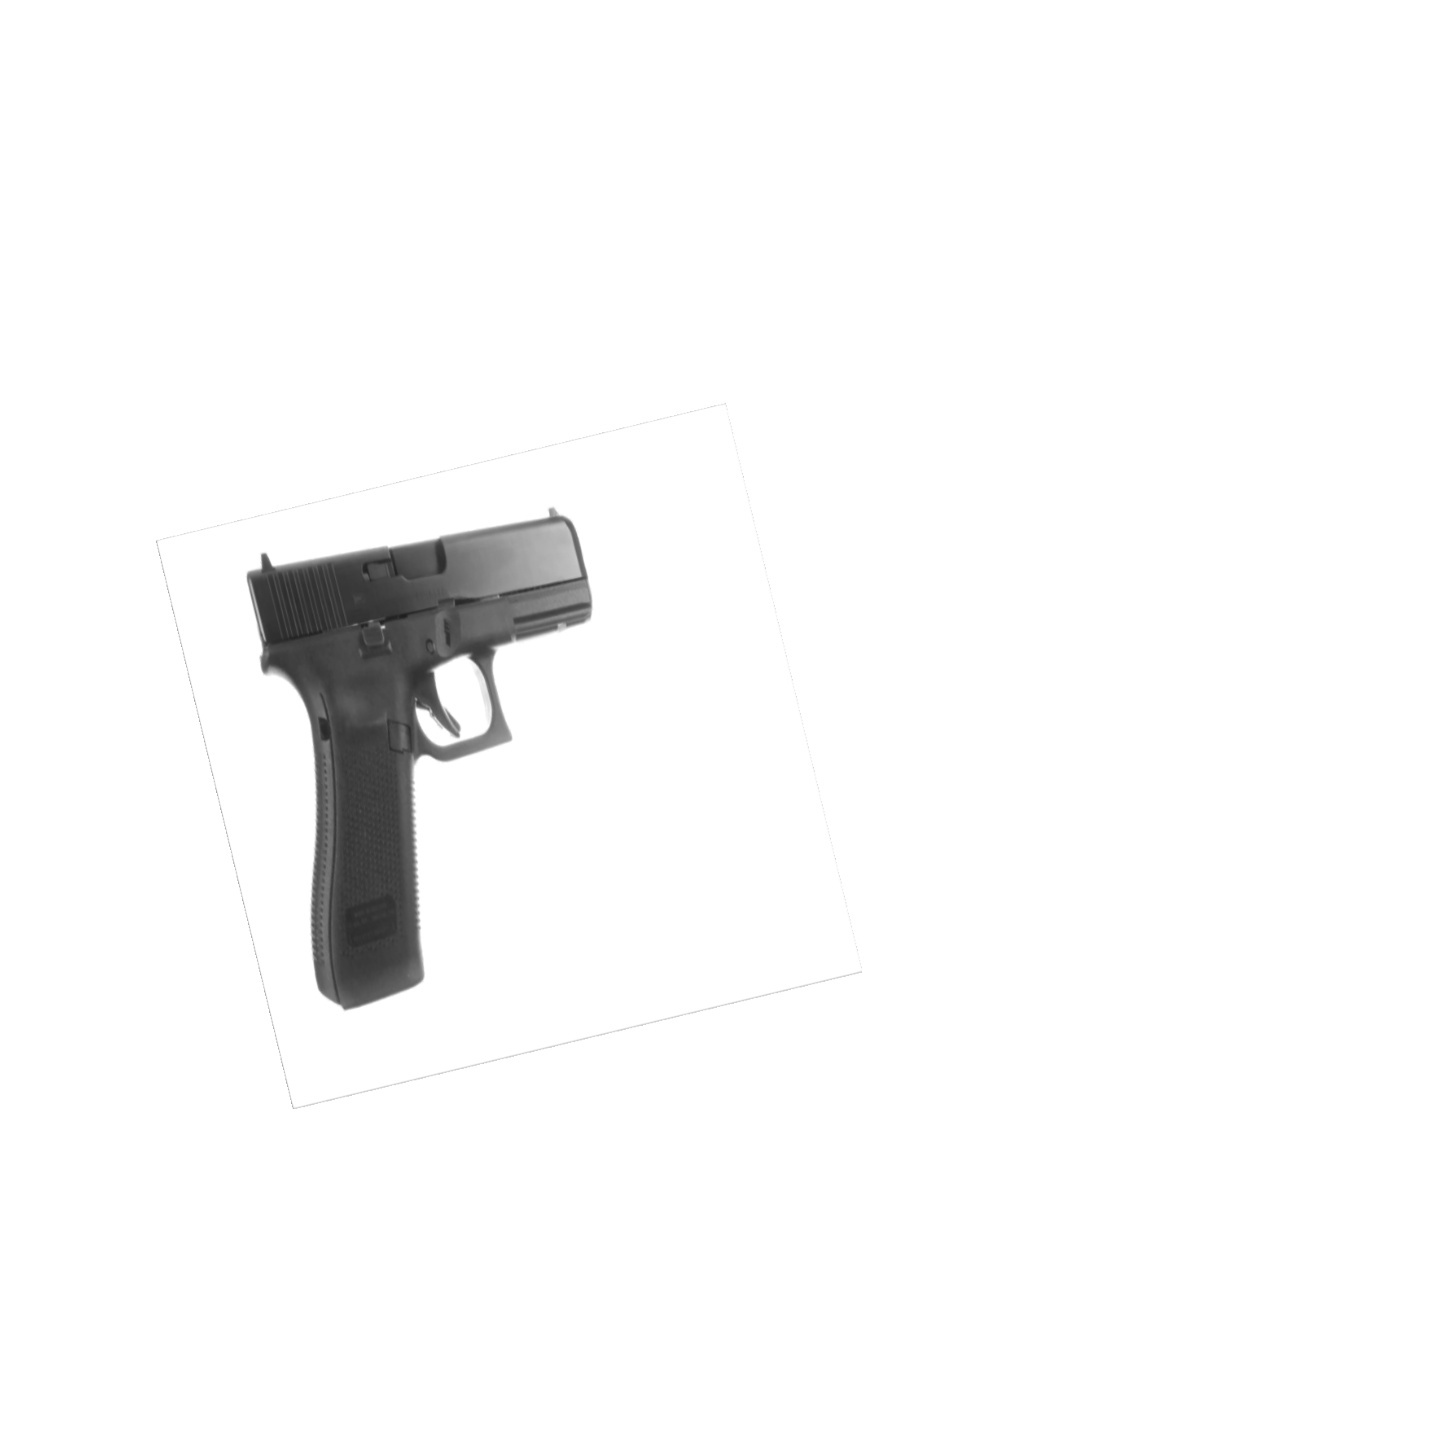gun: (232, 499, 614, 1010)
